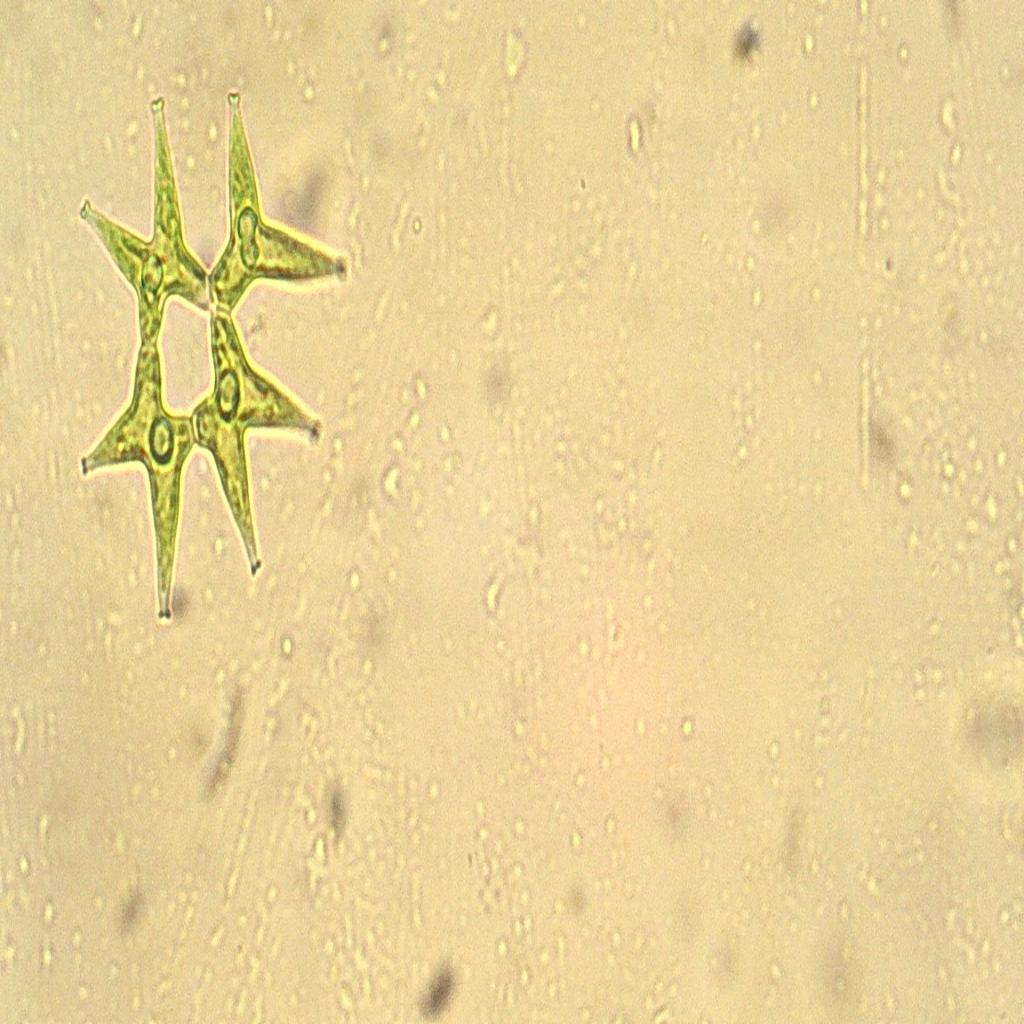Pediastrum_CT: (62, 73, 349, 646)
